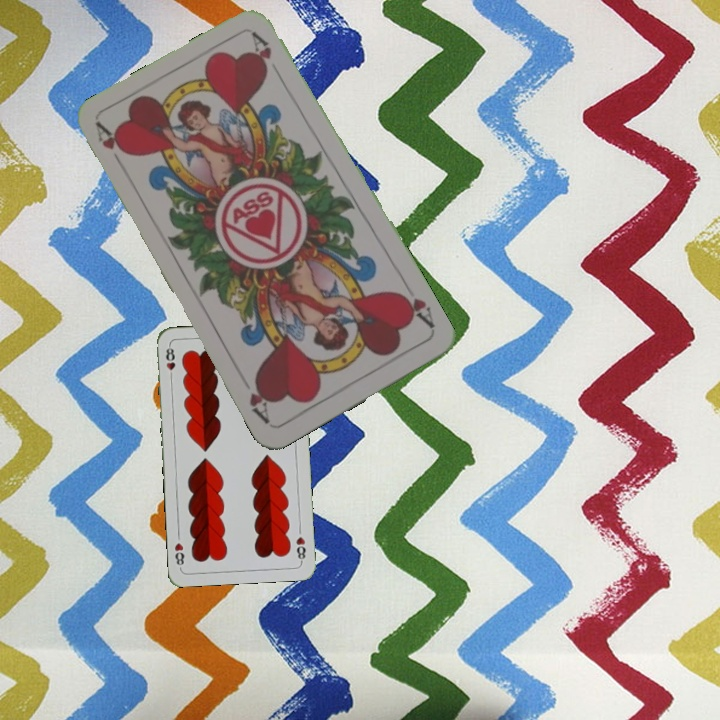H8: (162, 342, 178, 382), (292, 533, 308, 564)
HA: (92, 120, 131, 175), (393, 287, 438, 331)
